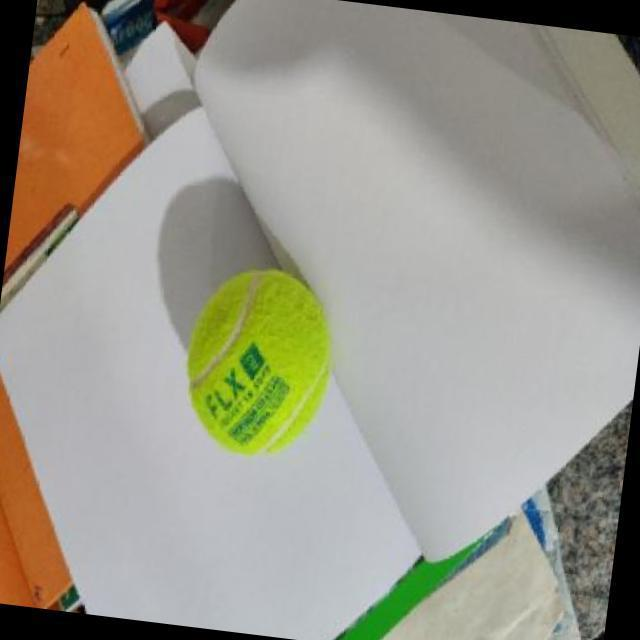-: (140, 242, 391, 488), (159, 266, 372, 456)
